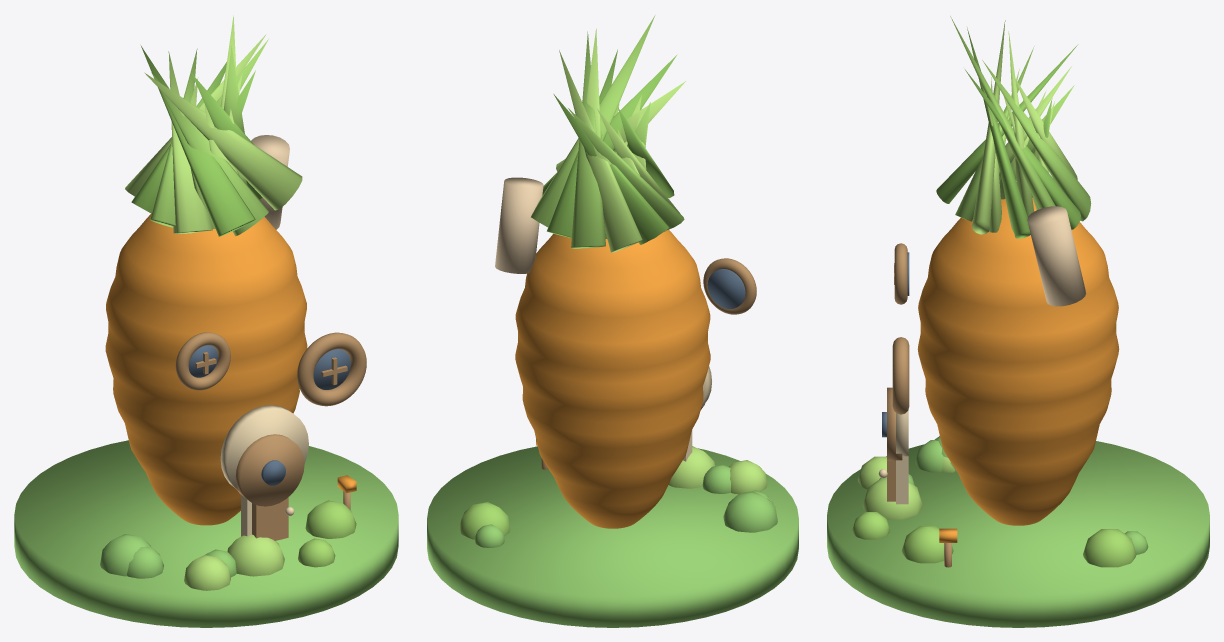
Rendered from carrothouse.glb.
3 views of the same model, side by side, from view 1: azimuth 30°, elevation 25°; view 2: azimuth 150°, elevation 25°; view 3: azimuth 270°, elevation 25° (orthographic). The views are drawn at different scales.
Parts seen in each view (by area): view 1: Body, Cylinder.007, Cone.008, Cone.006, Cylinder.001, Cylinder, Torus, Cone.005, Cone.007, Icosphere.004, Torus.001, Icosphere.008 (+13 smaller); view 2: Body, Cylinder.007, Cylinder.005, Cone.002, Cone.001, Cone.010, Cone.003, Cone.004, Icosphere.003, Cone, Torus.001, Icosphere.005 (+10 smaller); view 3: Body, Cylinder.007, Cylinder.005, Cone.001, Cone.009, Cone.008, Cone.010, Icosphere.005, Icosphere.004, Cone.006, Cone, Icosphere.008 (+12 smaller).
Boxes of the visible parts, x1,y1,x2,y2 form: Body: (105,213,307,525); Cylinder.007: (14,440,398,627); Cone.008: (144,72,302,210); Cone.006: (141,46,255,236); Cylinder.001: (235,434,304,506); Cylinder: (220,405,308,490); Torus: (297,332,366,406); Cone.005: (168,51,212,233); Cone.007: (151,72,268,236); Icosphere.004: (227,534,284,576); Torus.001: (175,332,230,390); Icosphere.008: (305,500,356,538); Body: (515,229,710,528); Cylinder.007: (427,446,798,627); Cylinder.005: (495,177,543,273); Cone.002: (559,50,642,252); Cone.001: (571,31,605,248); Cone.010: (531,15,655,227); Cone.003: (553,94,669,244); Cone.004: (568,108,684,230); Icosphere.003: (723,491,777,532); Cone: (546,49,617,238); Torus.001: (703,258,756,314); Icosphere.005: (459,502,510,539); Body: (917,197,1119,525); Cylinder.007: (827,441,1209,627); Cylinder.005: (1027,206,1086,306); Cone.001: (982,60,1091,221); Cone.009: (967,27,1030,238); Cone.008: (972,20,1005,234); Cone.010: (950,16,1055,209); Icosphere.005: (1083,529,1136,567); Icosphere.004: (862,476,922,519); Cone.006: (936,44,1078,203); Cone: (965,69,1080,229); Icosphere.008: (901,526,953,563).
Size of the model in its own units: 3 by 4.58 by 3.
